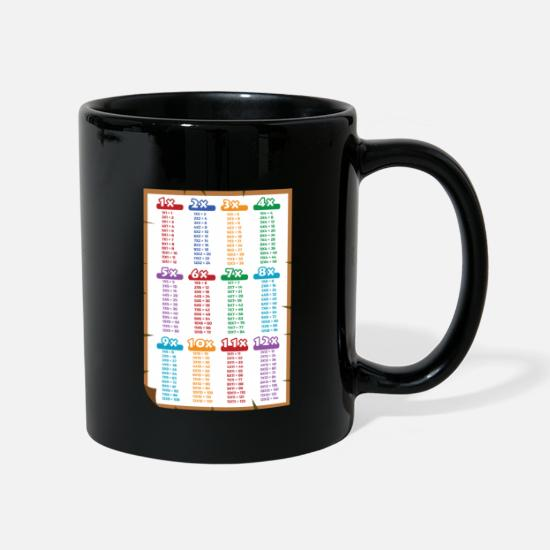cup: (73, 89, 491, 465)
